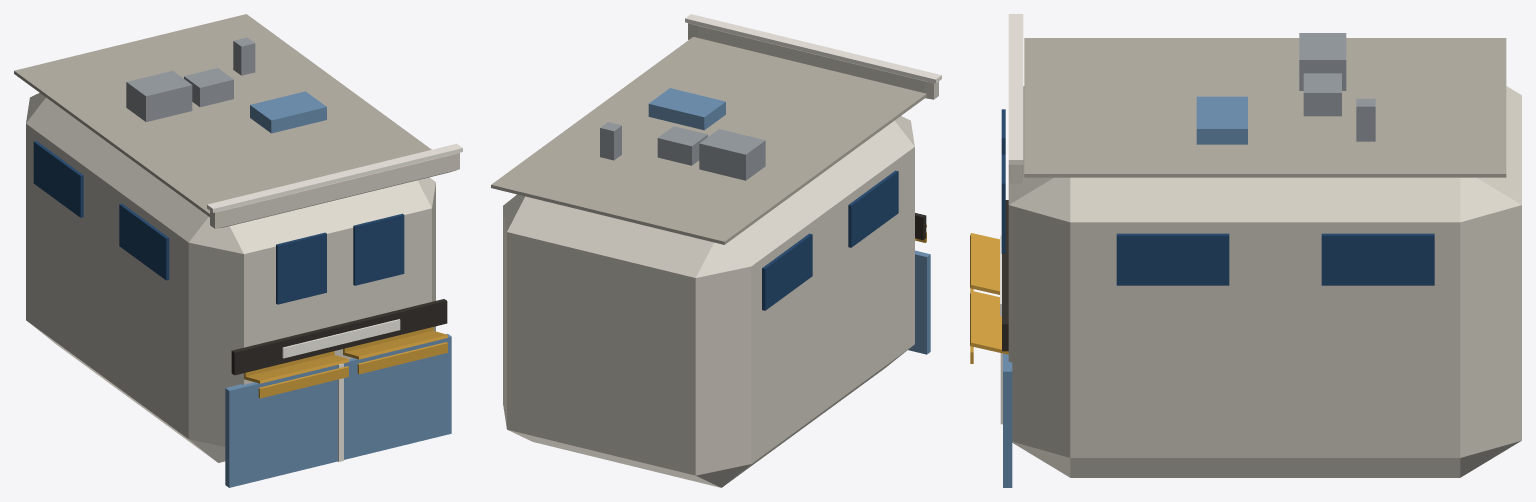
File: shop_w8_f2_solid.glb
3 renders of one model, left to right at view 1: azimuth 30°, elevation 25°; view 2: azimuth 150°, elevation 25°; view 3: azimuth 270°, elevation 25°, orthographic. The views are drawn at different scales.
Parts seen in each view (by area): view 1: walls, roofslab, shopglass, parapet, fascia, win.001, win, hvac, pcap, sb, sb.002, skylt (+8 smaller); view 2: walls, roofslab, parapet, hvac, pcap, sb, sb.002, skylt, shopglass, hvac2, pipe; view 3: walls, roofslab, sb.003, sb.001, skylt, pcap, hvac, awn.001, hvac2, awn, shopglass, fascia (+1 smaller).
Part boxes in pixels (box(x1,y1,x2,y2)): walls: box(26, 93, 435, 462); roofslab: box(14, 14, 431, 216); shopglass: box(225, 334, 451, 487); parapet: box(210, 153, 459, 228); fascia: box(231, 299, 447, 375); win.001: box(353, 213, 404, 285); win: box(276, 232, 326, 304); hvac: box(126, 70, 192, 121); pcap: box(207, 143, 462, 212); sb: box(119, 203, 169, 280); sb.002: box(33, 141, 83, 217); skylt: box(250, 91, 326, 133); walls: box(503, 116, 914, 487); roofslab: box(491, 37, 926, 244); parapet: box(688, 23, 938, 99); hvac: box(699, 129, 765, 180); pcap: box(685, 14, 941, 83); sb: box(848, 170, 898, 247); sb.002: box(762, 233, 812, 310); skylt: box(648, 88, 725, 130); shopglass: box(908, 250, 930, 354); hvac2: box(657, 126, 707, 165); pipe: box(600, 122, 621, 160); walls: box(1008, 86, 1521, 477); roofslab: box(1024, 38, 1506, 177); sb.003: box(1321, 233, 1434, 285); sb.001: box(1116, 233, 1229, 285); skylt: box(1196, 96, 1247, 144); pcap: box(1008, 14, 1023, 164); hvac: box(1299, 33, 1346, 90); awn.001: box(970, 290, 1008, 354); hvac2: box(1303, 73, 1341, 116); awn: box(970, 233, 999, 294); shopglass: box(1003, 353, 1012, 487); fascia: box(1002, 200, 1008, 351).
Size of the model in its own units: 8.2 by 9.1 by 12.91.
